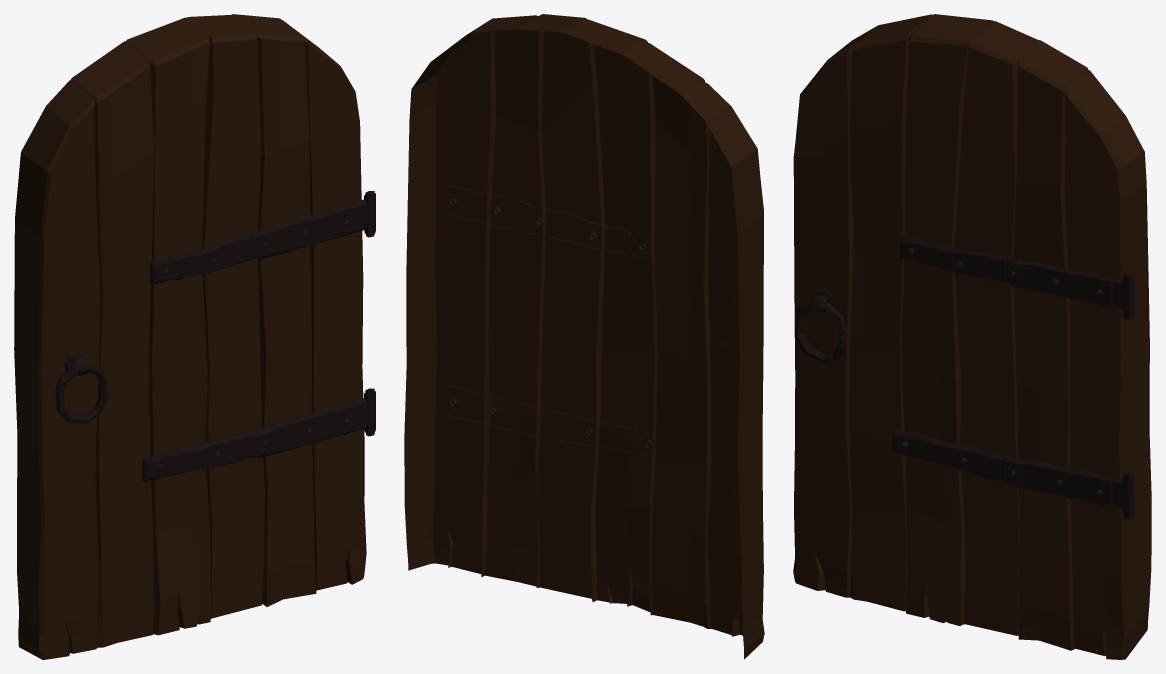
Rendered from Door_SM 1.FBX.
3 renders of one model, left to right at view 1: azimuth 30°, elevation 25°; view 2: azimuth 150°, elevation 25°; view 3: azimuth 330°, elevation 25°, orthographic.
Visible parts, largest first — view 1: Door, Hinges, Handle; view 2: Door, Hinges; view 3: Door, Hinges, Handle.
Part boxes in pixels (x1,y1,x2,y2): Door: [14, 14, 366, 659]; Hinges: [142, 191, 375, 481]; Handle: [55, 352, 107, 423]; Door: [404, 14, 764, 659]; Hinges: [432, 182, 662, 458]; Door: [793, 14, 1151, 659]; Hinges: [892, 235, 1134, 519]; Handle: [794, 289, 847, 363].
Bounding box in the file's own units: 148 × 243 × 28.77.
